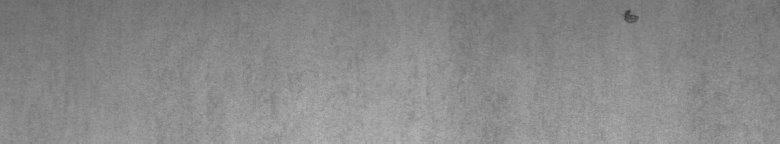fi: (619, 4, 640, 28)
